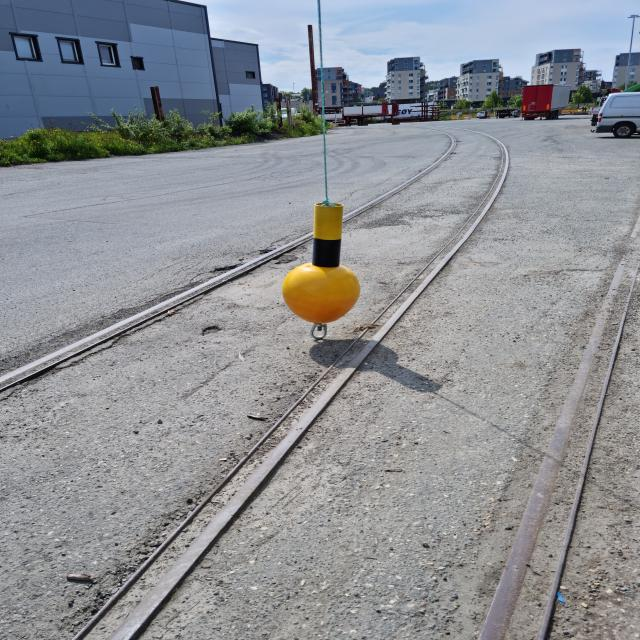west: (280, 204, 361, 322)
